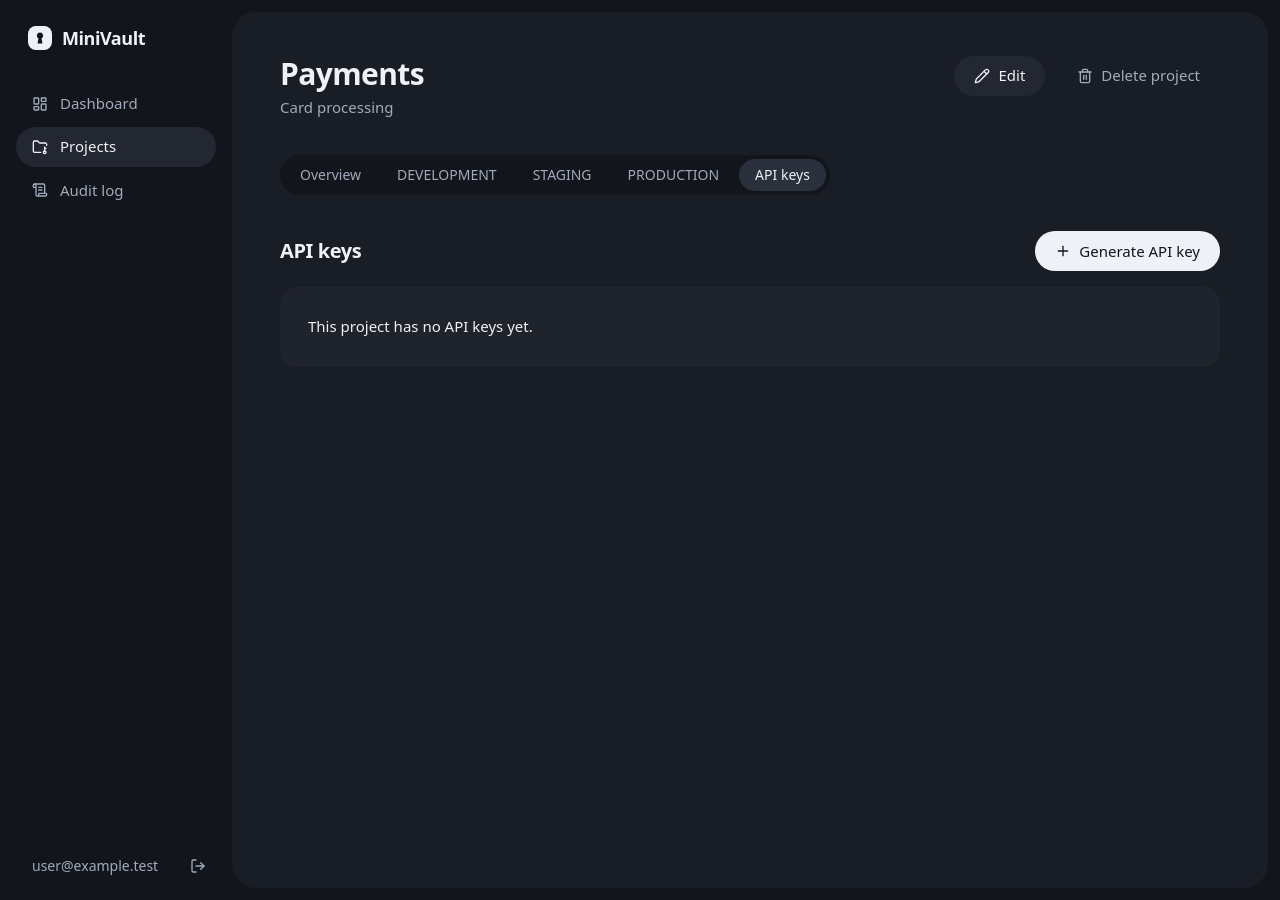
it: requires at least one permission
Click the button "Generate API key" at (1128, 251), box [1035,231,1220,271]
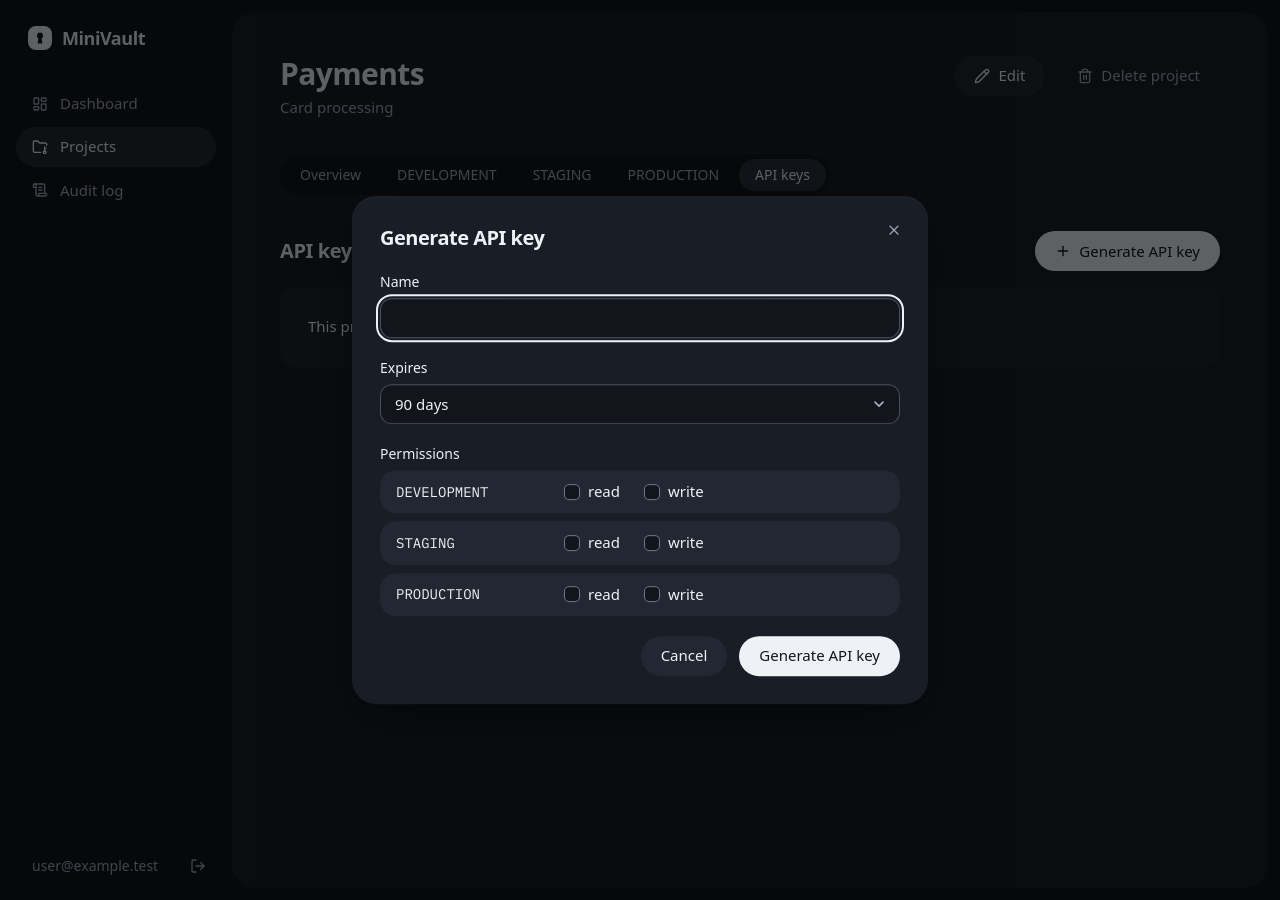
Type "CI" into the field labelled "Name" at (640, 318), box [380,298,900,338]
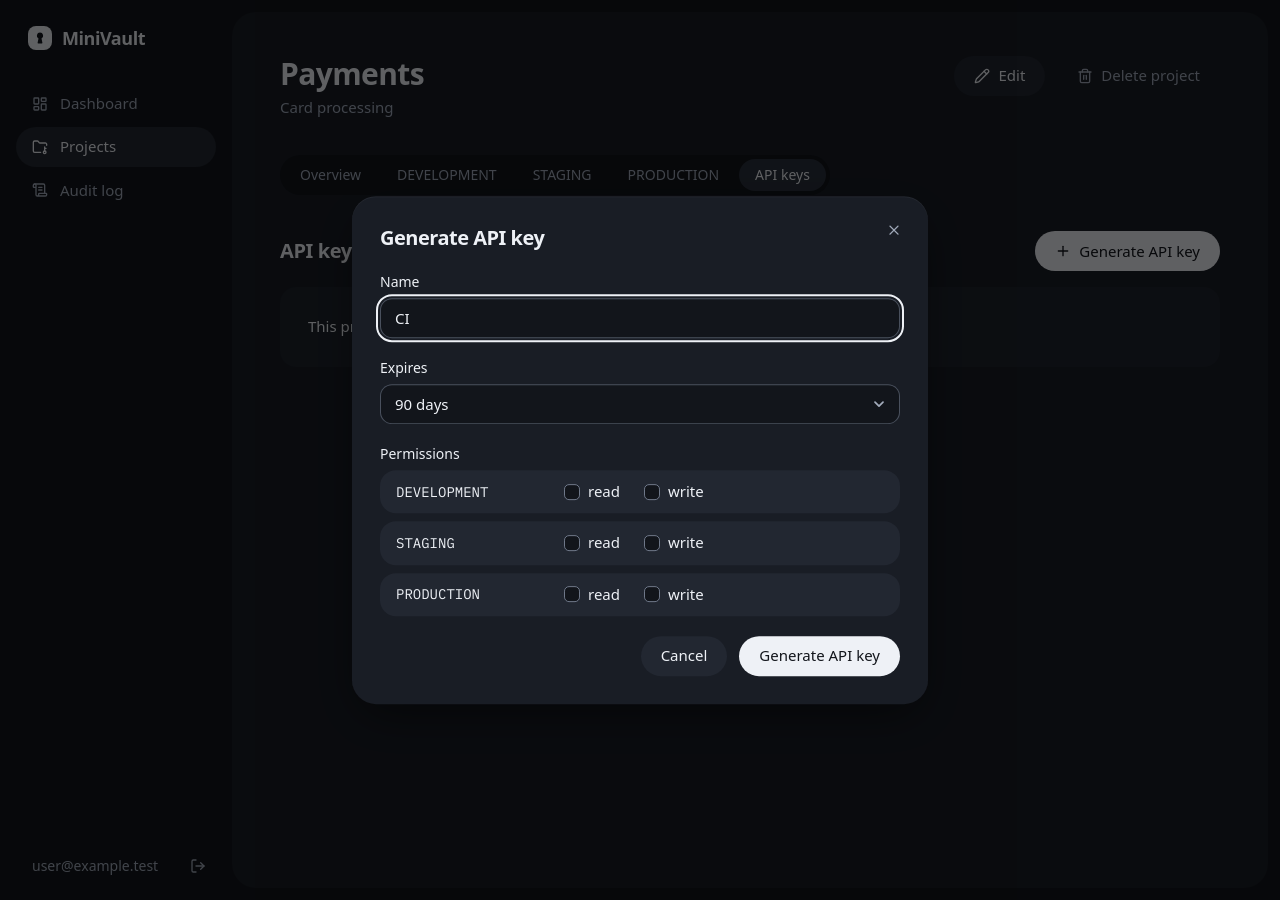
Click the button "Generate API key" at (820, 656), box [739,636,900,676]
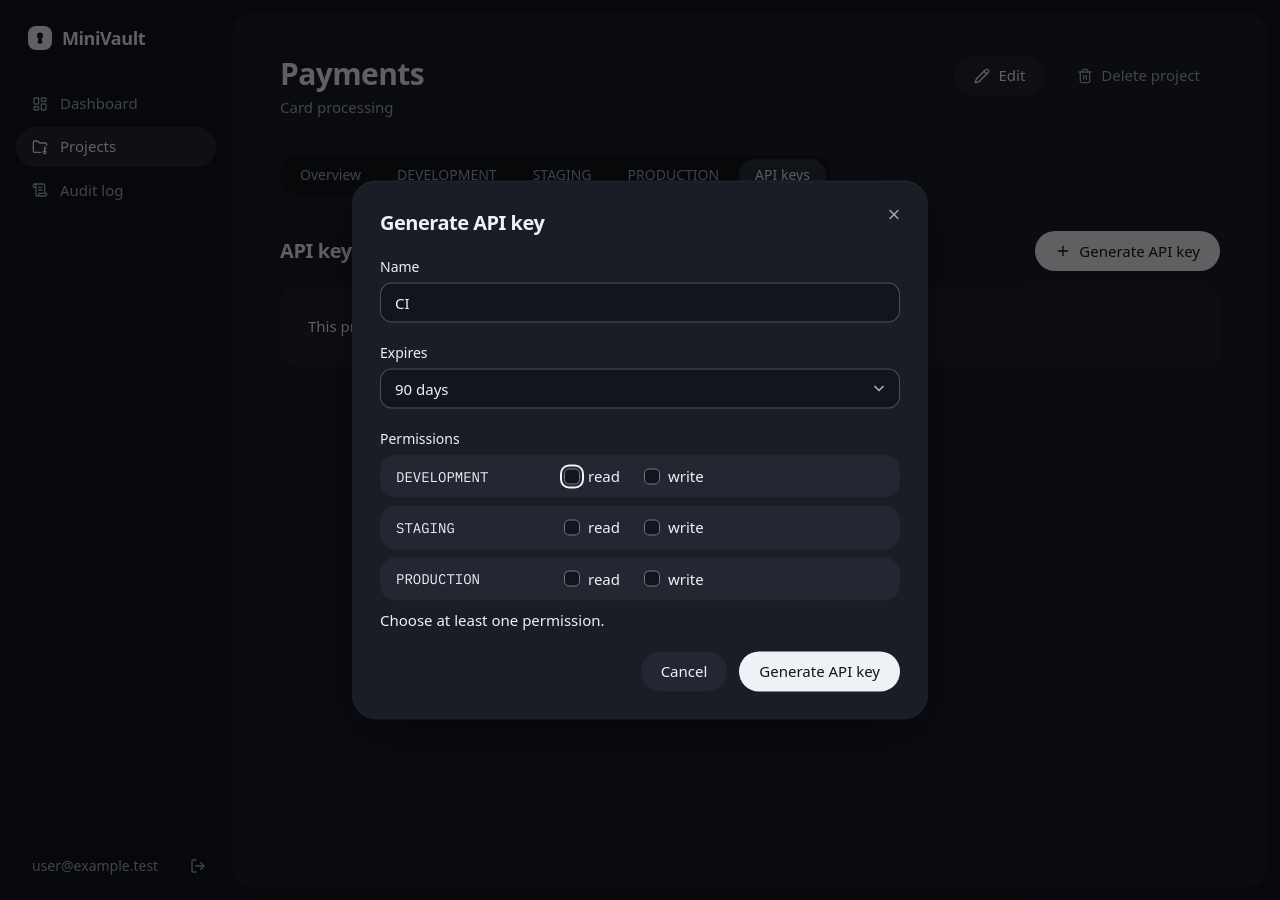
Check: the text "Choose at least one permission." is shown, box [380,609,604,629]
